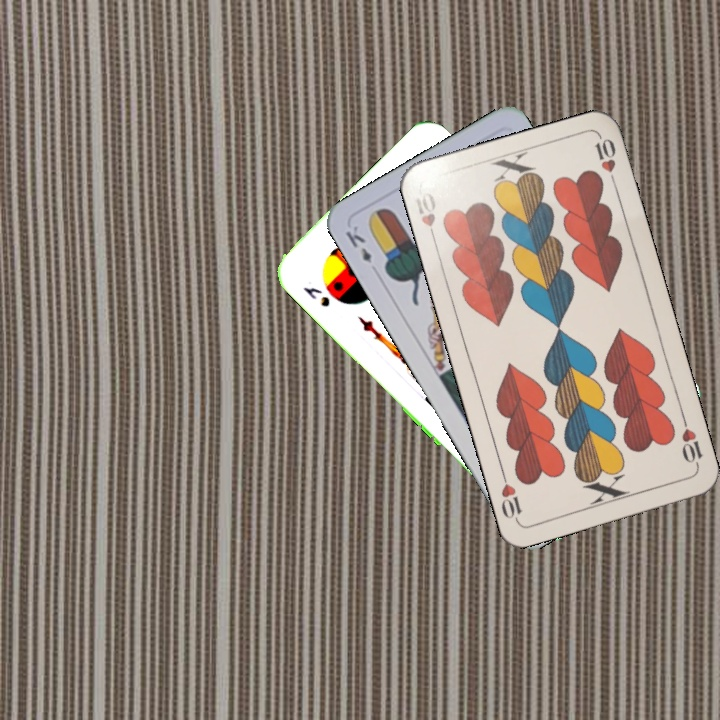EK: (341, 221, 375, 265)
H10: (677, 412, 705, 470), (411, 188, 439, 244)
SK: (298, 282, 333, 310)
